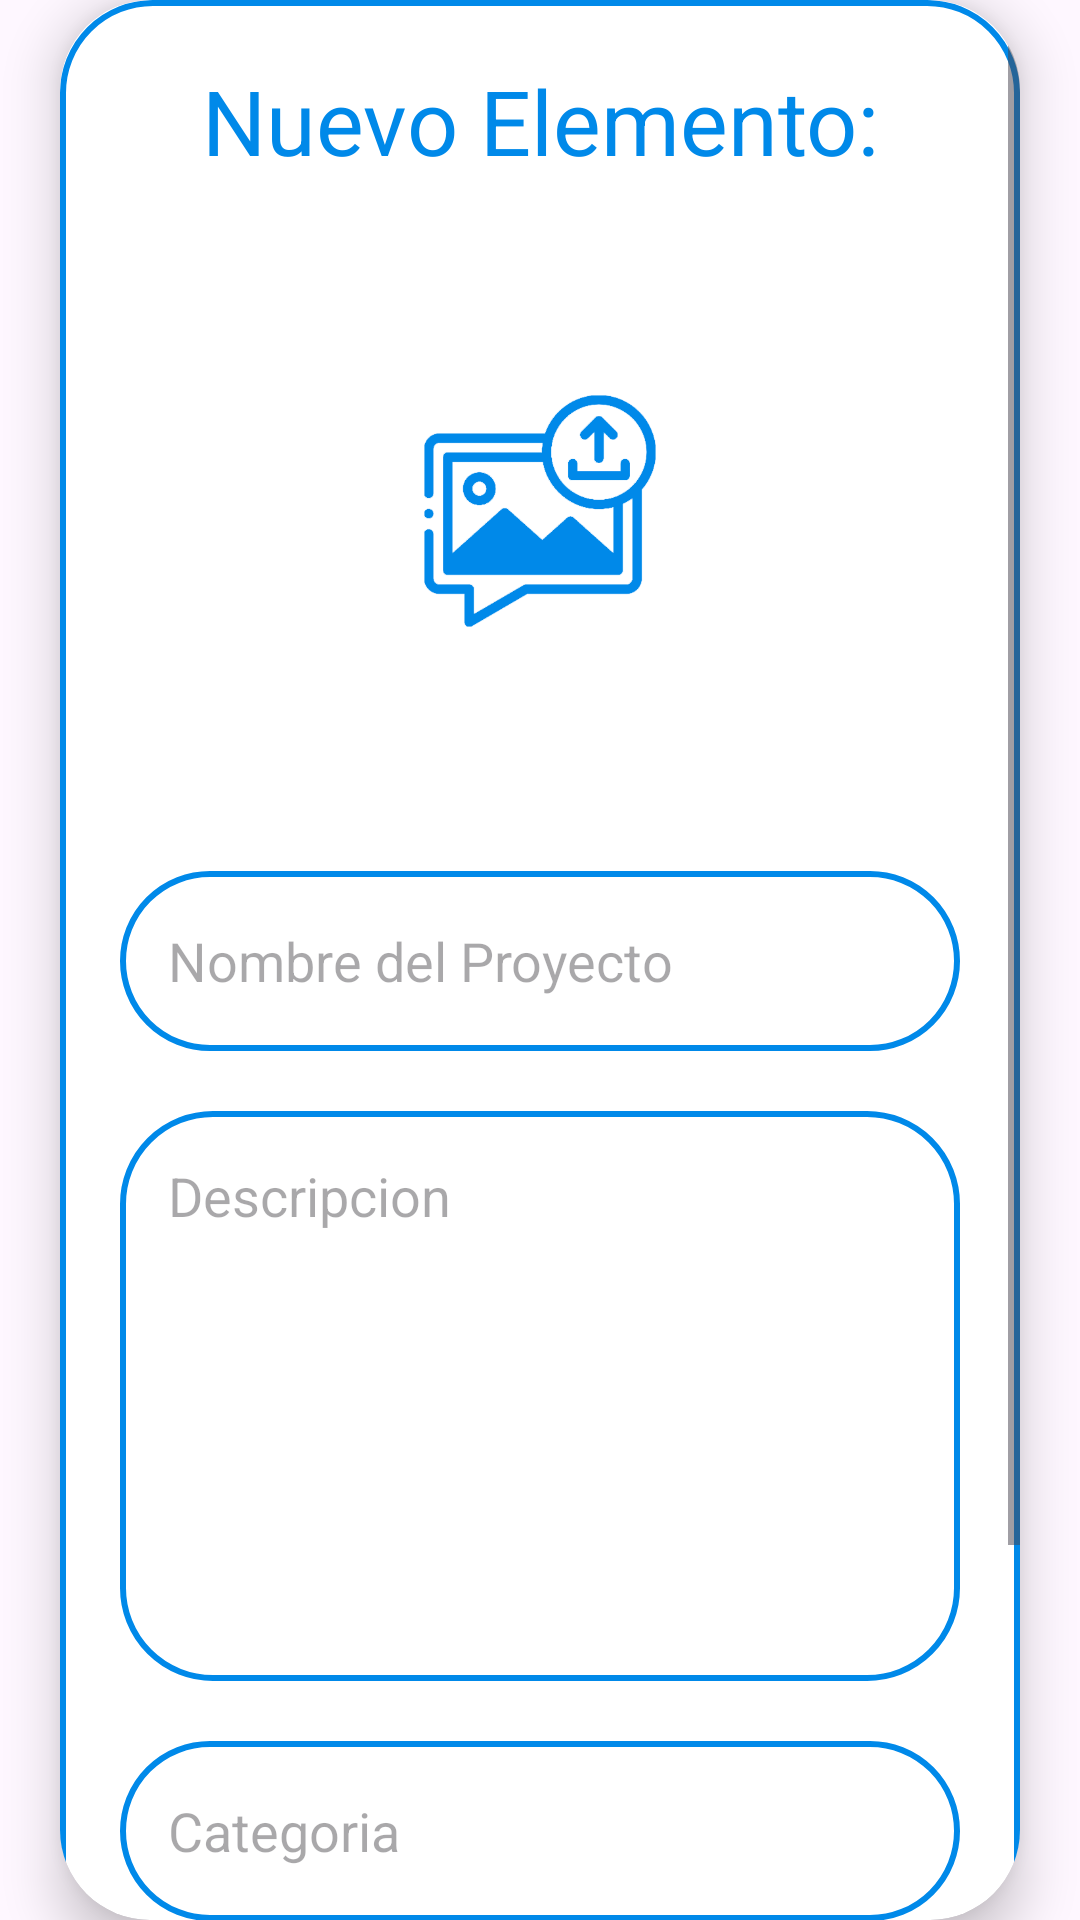

Icon bounding boxes for this 1080px x 1920px phone screenshot, format (x1, y1, x2, y2):
uploadimg: (424, 395, 656, 627)
